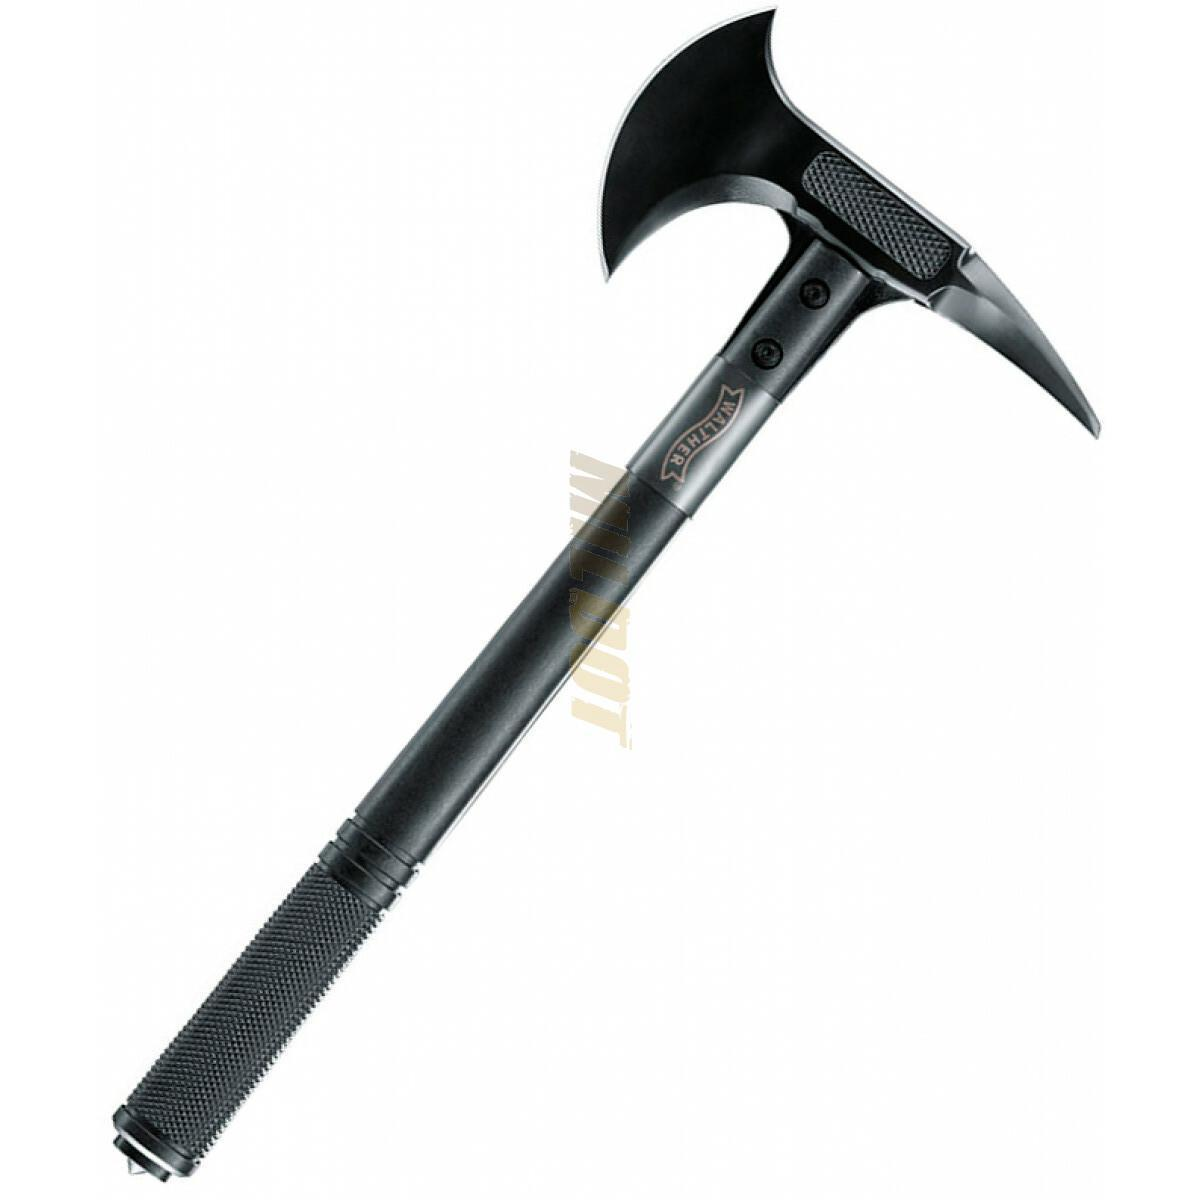machado: (114, 11, 1099, 1180)
